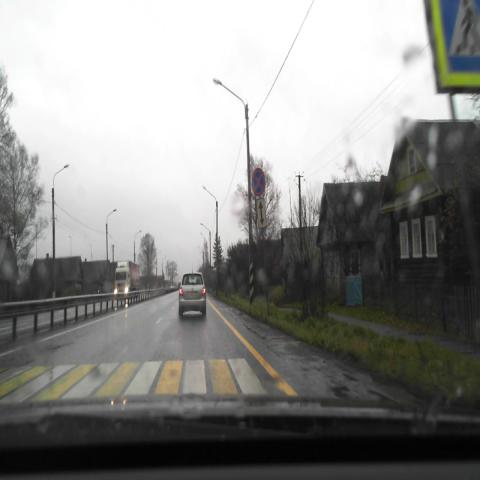3_27: (252, 168, 265, 197)
5_19_1: (427, 0, 479, 93)
